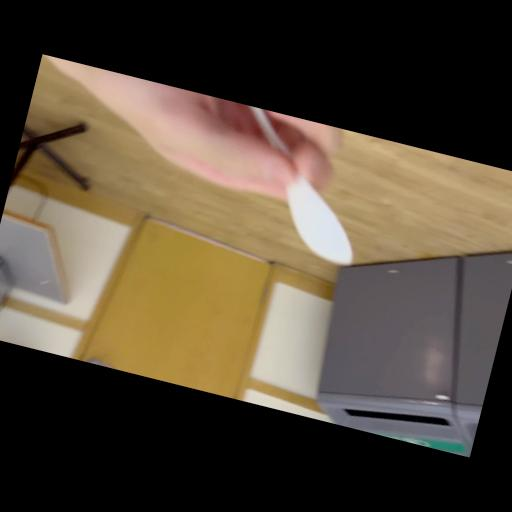utensil: (188, 98, 390, 278)
